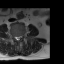CCS_normal: (17, 34, 19, 42)
LFS_normal: (21, 34, 23, 39)
LLS_normal: (19, 34, 21, 41)
RFS_normal: (13, 34, 15, 39)
RLS_normal: (15, 34, 17, 40)
